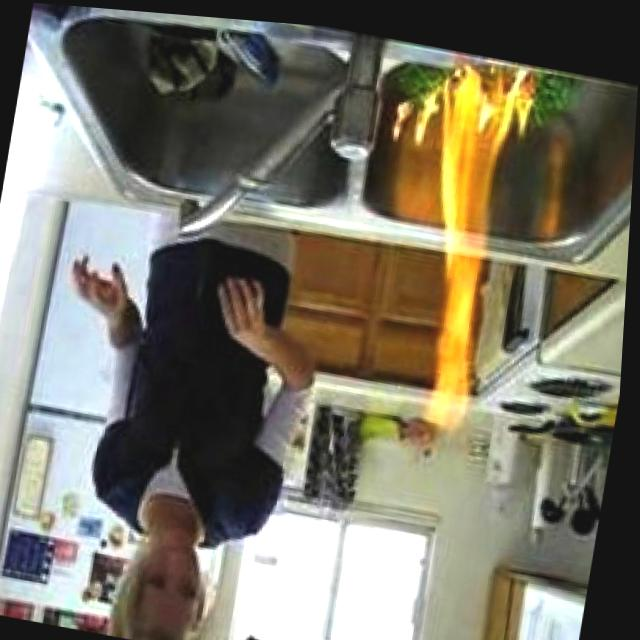Fire: (393, 47, 539, 424), (389, 81, 444, 140)
